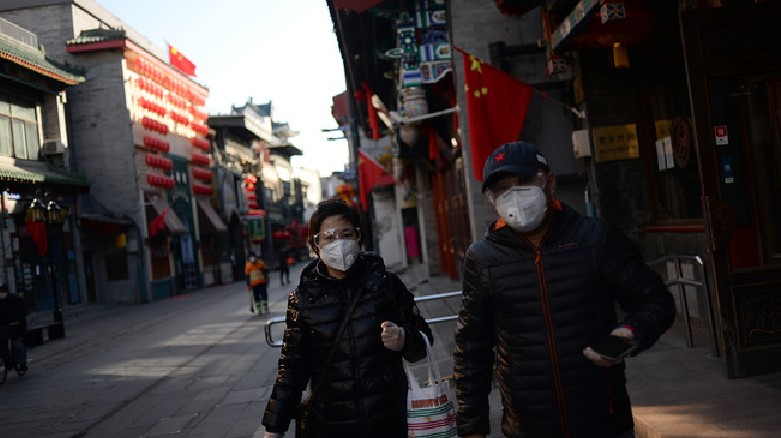face_with_mask: (486, 148, 547, 231), (314, 206, 357, 271)
